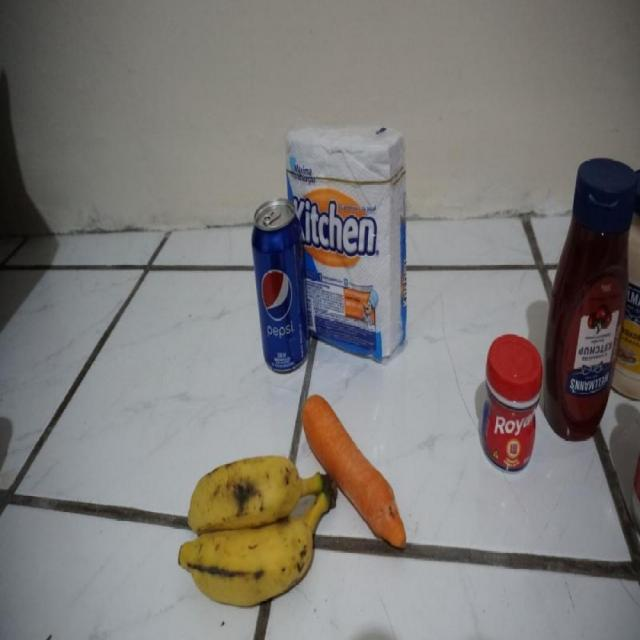Banana: (180, 456, 329, 603)
Carrot: (333, 407, 408, 574)
Ketchup: (550, 157, 625, 442)
Napkin: (306, 124, 406, 352)
SodaCan: (247, 204, 308, 367)
Yeast: (478, 336, 536, 471)
